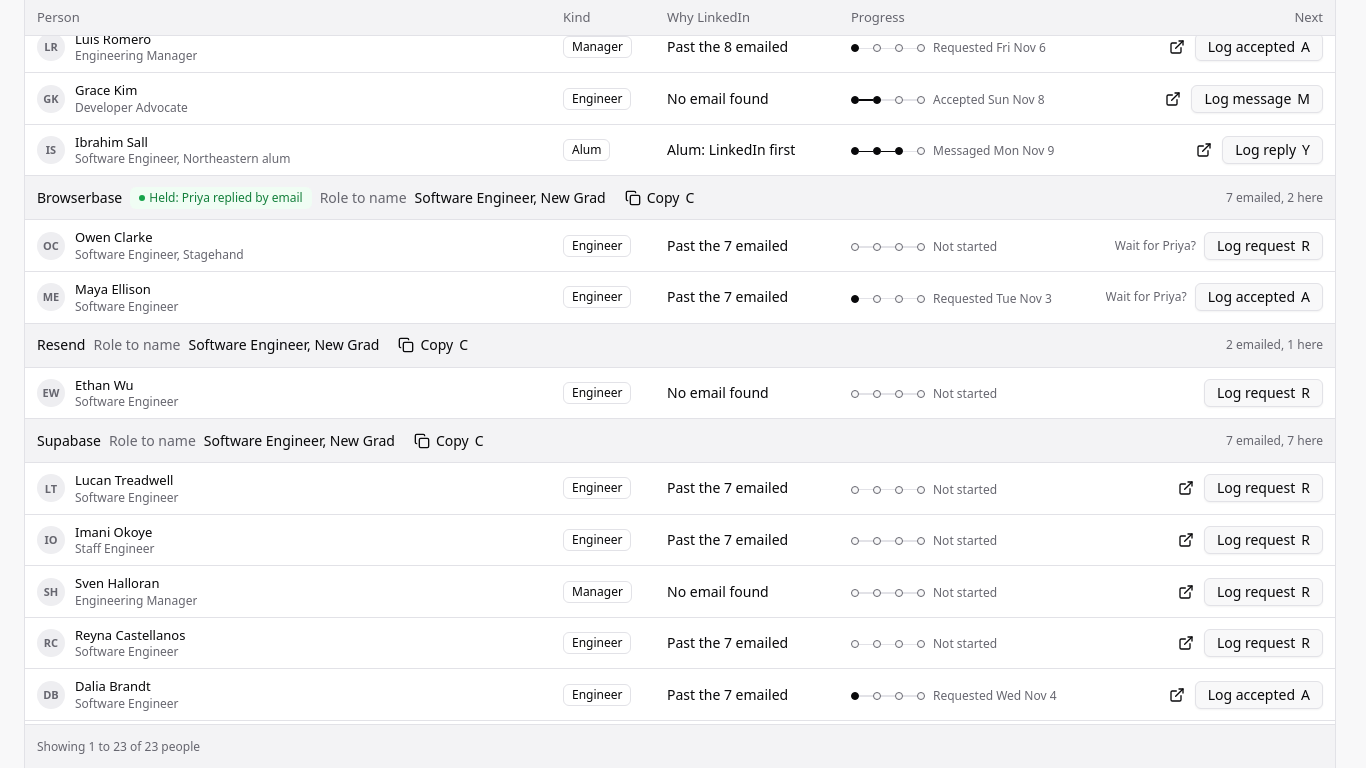
Test: LinkedIn list, All recorded › l opens nothing when the saved profile address is not a web address
The width and height of the screenshot is (1366, 768).
(page scrolled)
Click the text "Ethan Wu" at coordinates (104, 385), box [75,376,134,394]
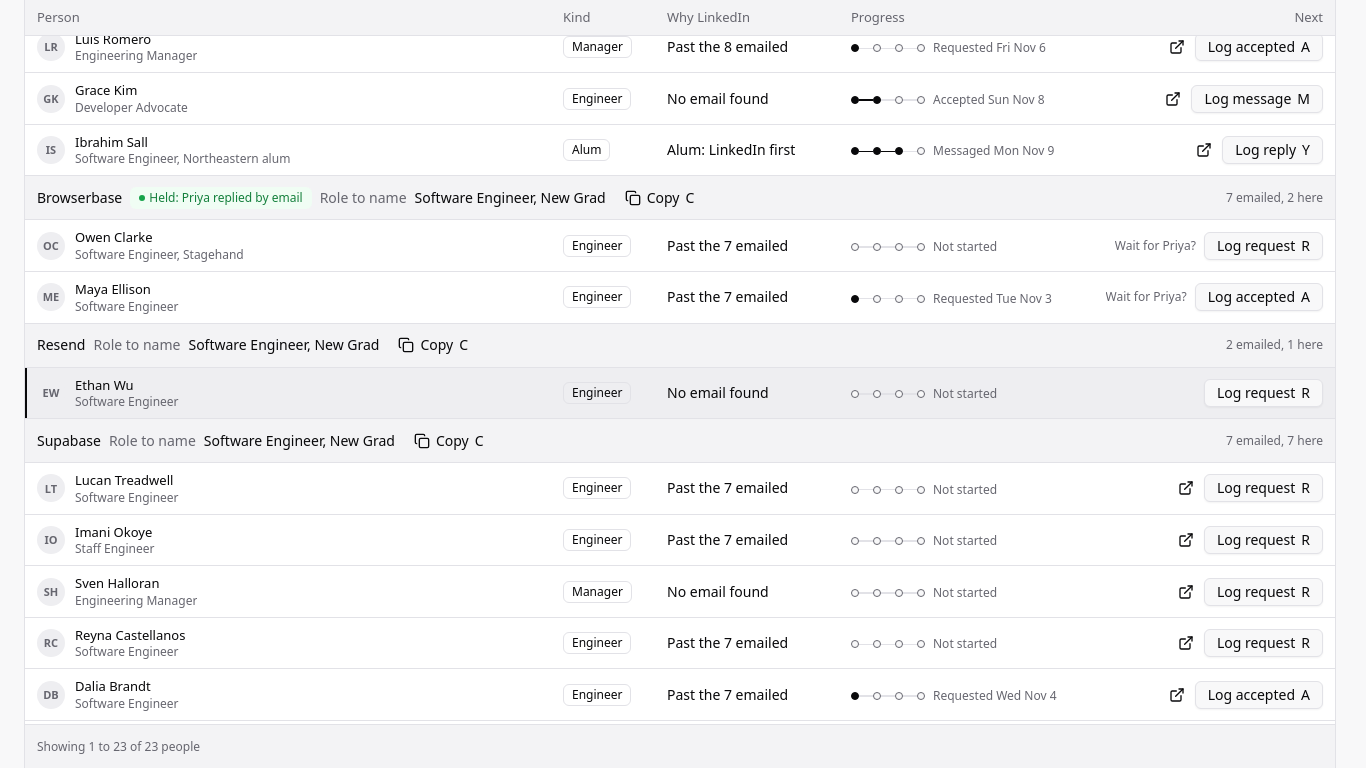
Press l
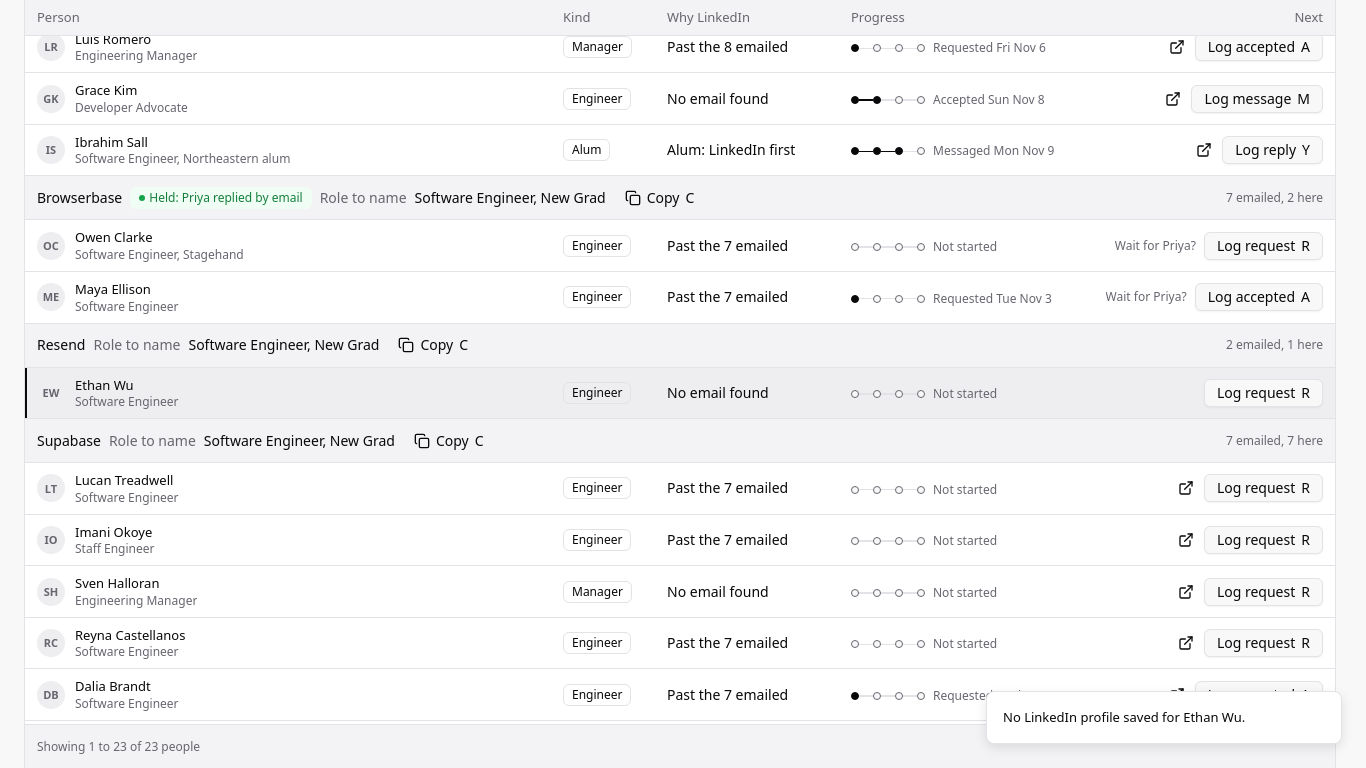
Expected: the text "No LinkedIn profile saved for Ethan Wu." is shown, [1003,708,1245,727]
